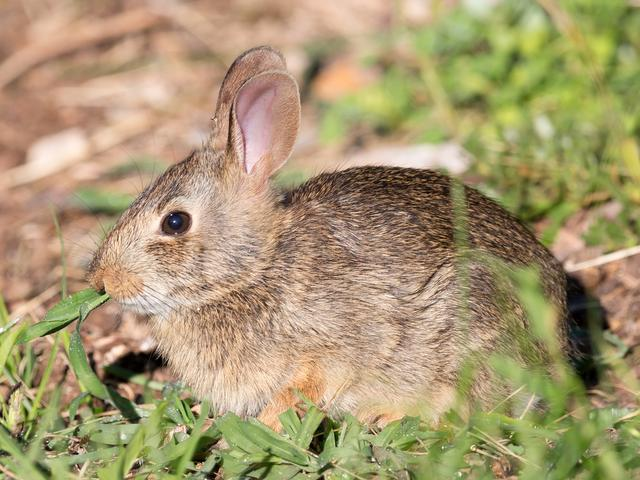rabbit: (49, 34, 616, 439)
